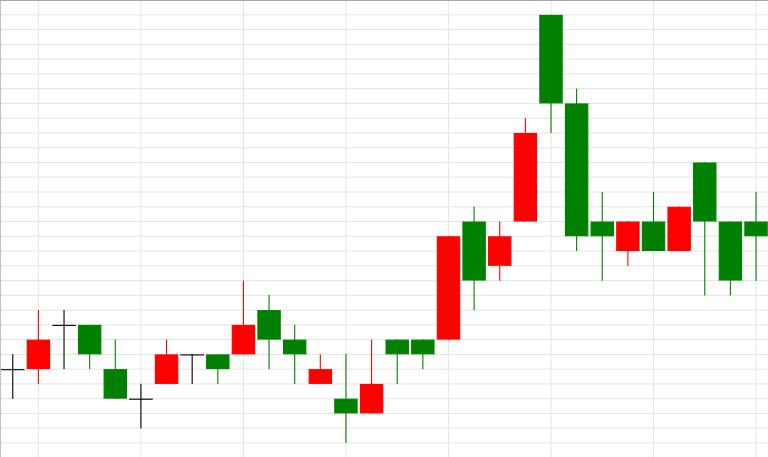inverse_hammer_rise: (257, 295, 383, 443)
morning_star_rise: (53, 308, 178, 428)
